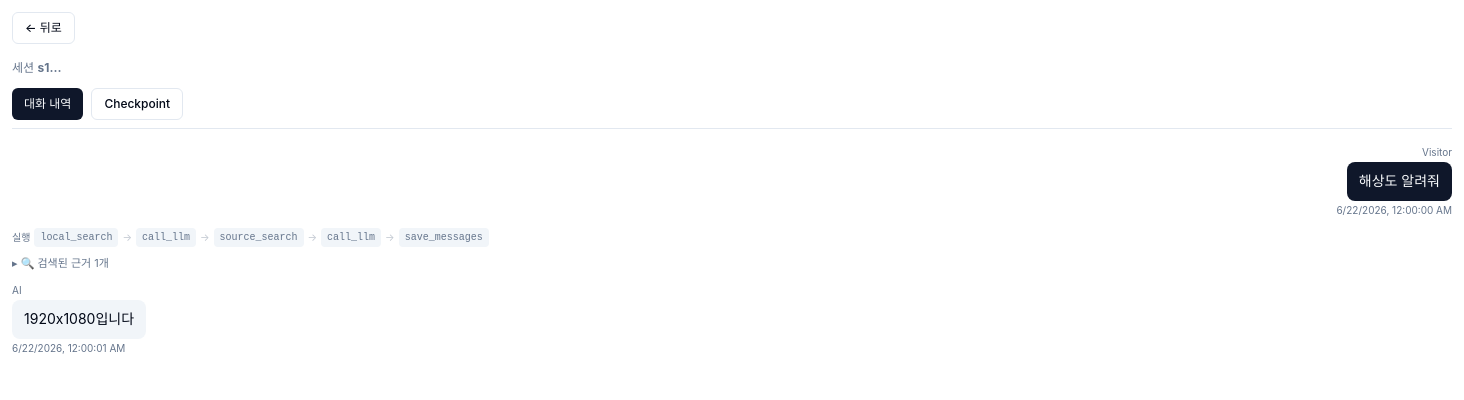
it: SessionDetail — 대화 흐름 안의 검색 근거 (issue 207) › 대화 내역에서 유저 질문 다음에 그 턴의 검색 근거를 펼쳐본다(질문→검색→답변 순)
The width and height of the screenshot is (1464, 400).
Check: the text "해상도 알려줘" is shown, box [1347, 162, 1452, 201]
Check: the text "1920x1080입니다" is shown, box [24, 308, 134, 331]
Step 1. Click the button "▸ 🔍 검색된 근거 1개" → (60, 263), box [12, 255, 109, 271]
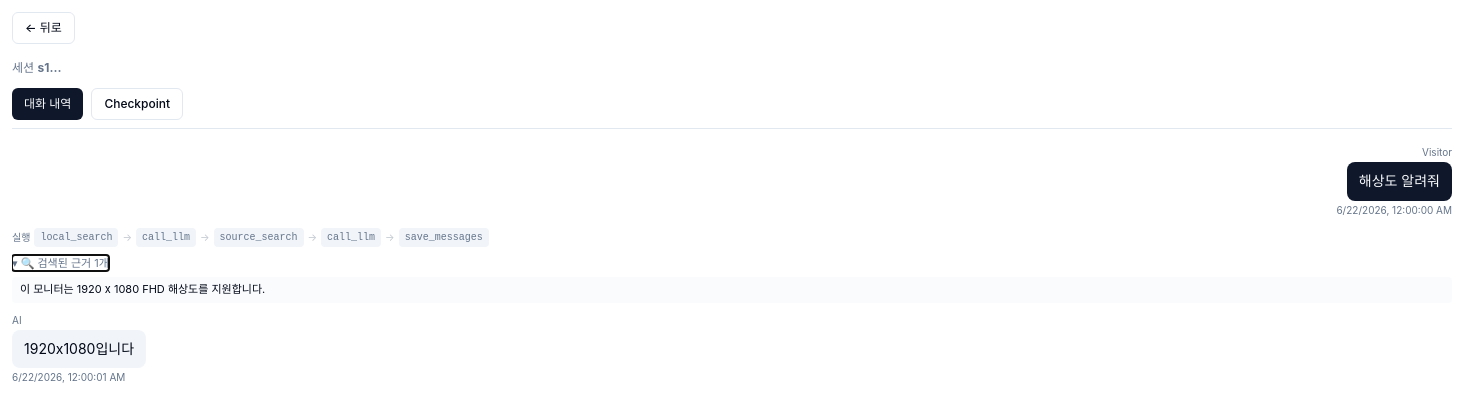
Check: the list item "이 모니터는 1920 x 1080 FHD 해상도를 지원합니다." is shown, box [12, 277, 1452, 303]
